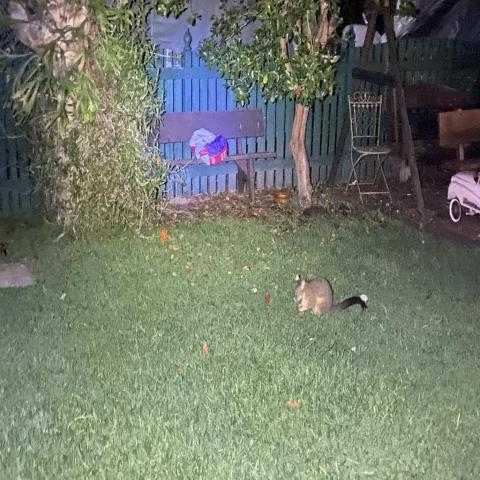small_animal: (292, 271, 371, 318), (0, 256, 39, 289)
